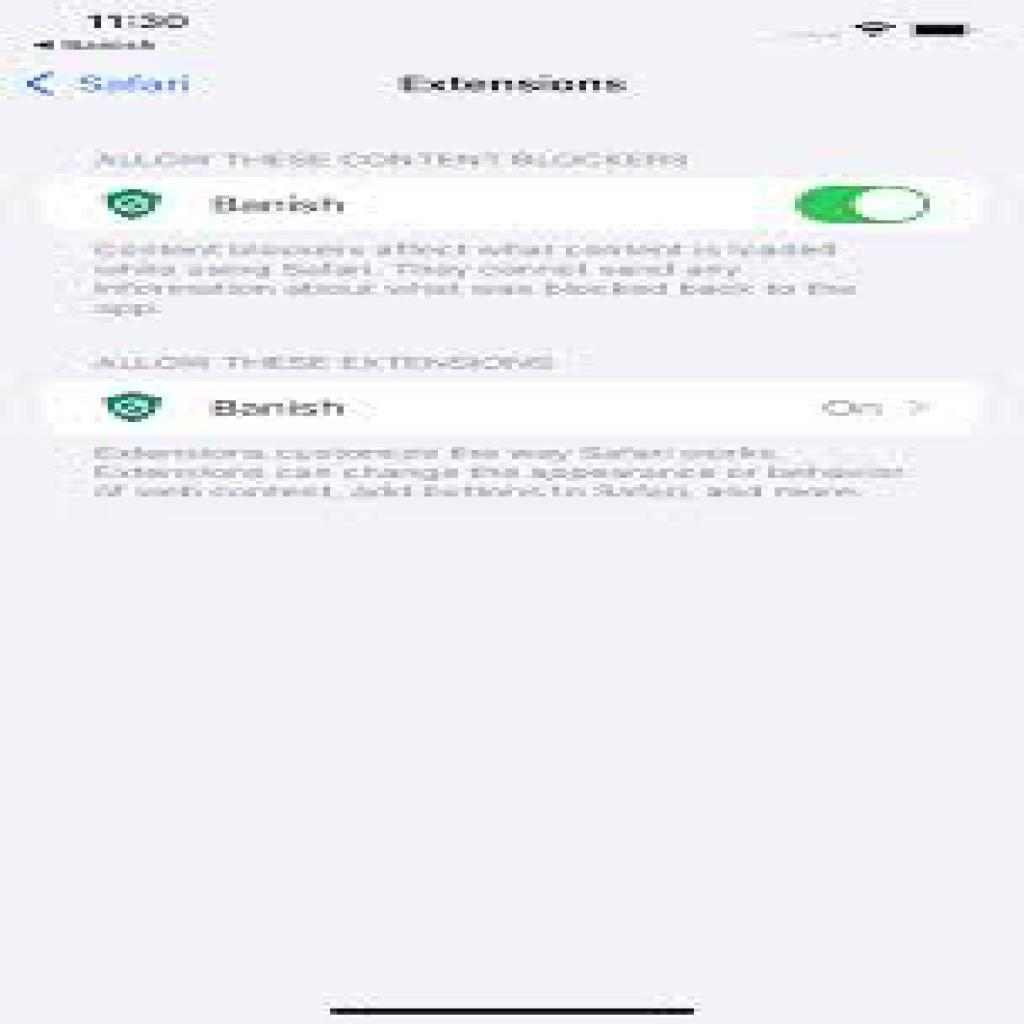switch: (771, 176, 945, 237)
